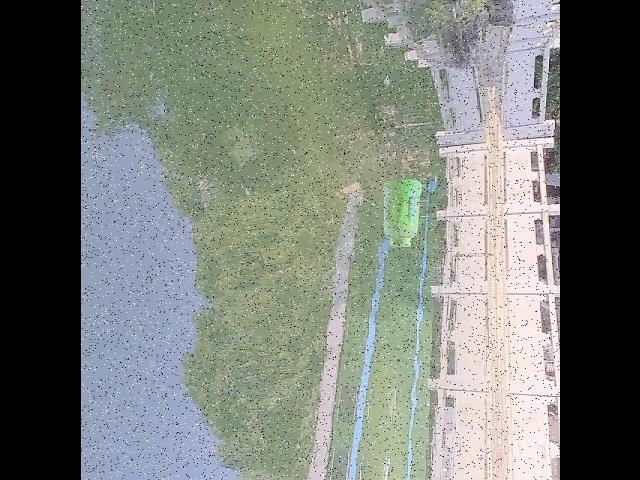Bottle: (390, 169, 427, 257)
